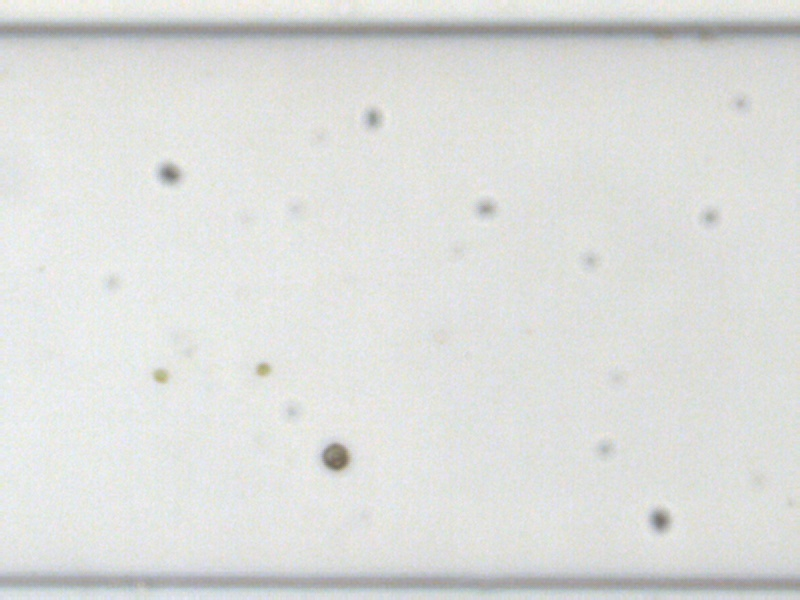Chlorella: (149, 367, 169, 383), (253, 361, 270, 376)
Effrenium: (319, 440, 349, 471)
